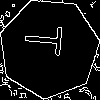T: (24, 23, 72, 57)
